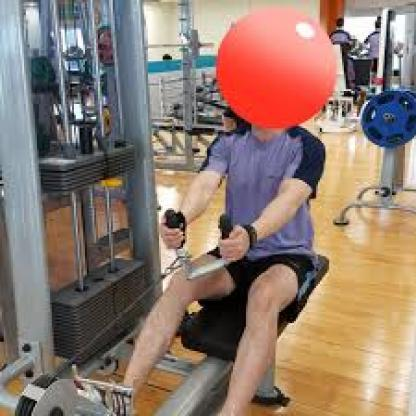Seated Cable Rows: (0, 0, 339, 416)
